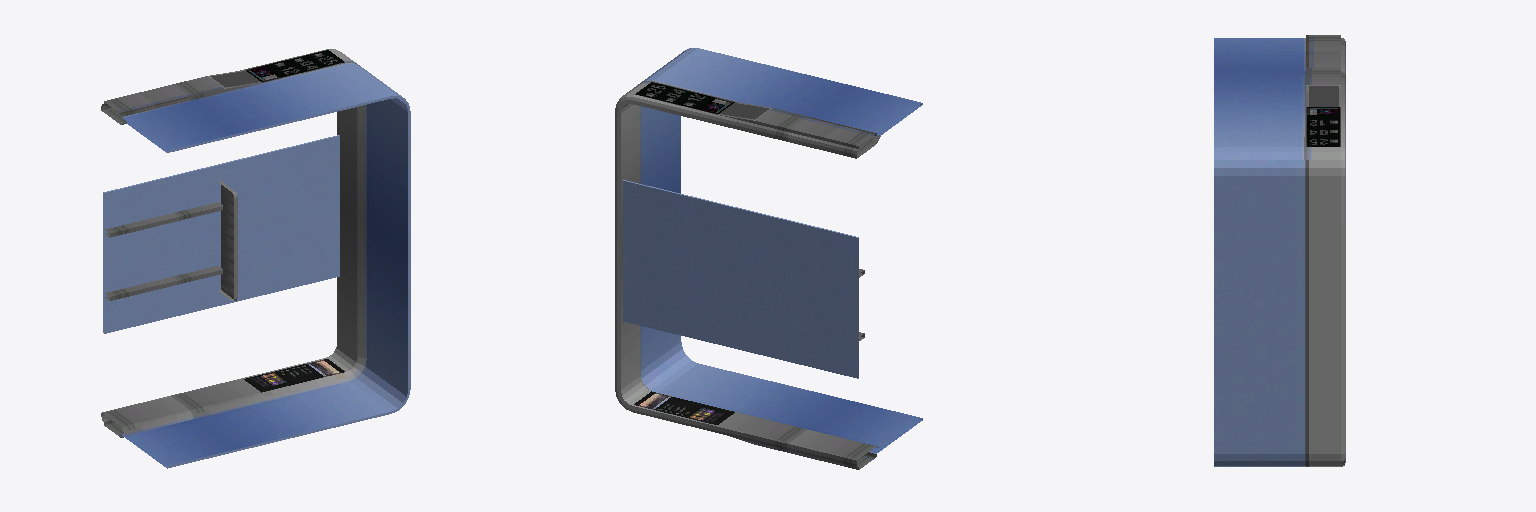
3 renders of one model, left to right at view 1: azimuth 30°, elevation 25°; view 2: azimuth 150°, elevation 25°; view 3: azimuth 270°, elevation 25°, orthographic.
Visible parts, largest first — view 1: bus-stop; view 2: bus-stop; view 3: bus-stop.
Part boxes in pixels (x1,y1,x2,y2): bus-stop: (101,49,410,468); bus-stop: (615,48,922,469); bus-stop: (1214,35,1345,466).
Size of the model in its own units: 3.21 by 4.08 by 1.5.
Materials: 1 (1 with a texture image).